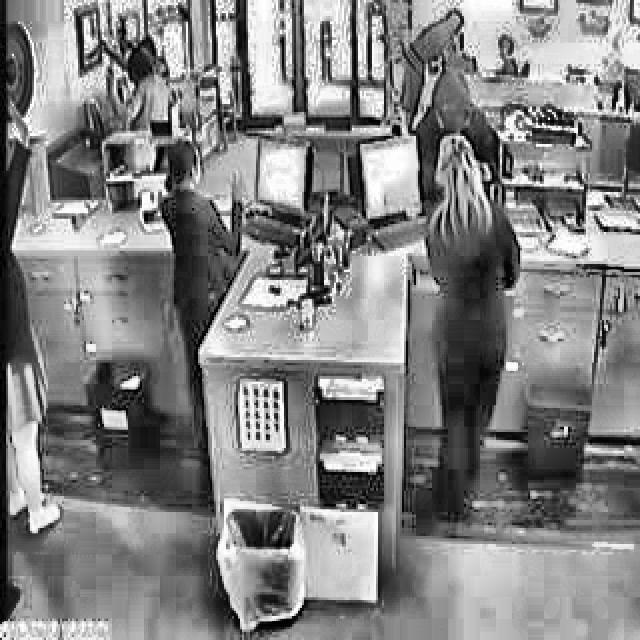robbery: (394, 9, 506, 194), (151, 135, 251, 262), (96, 13, 177, 129)
